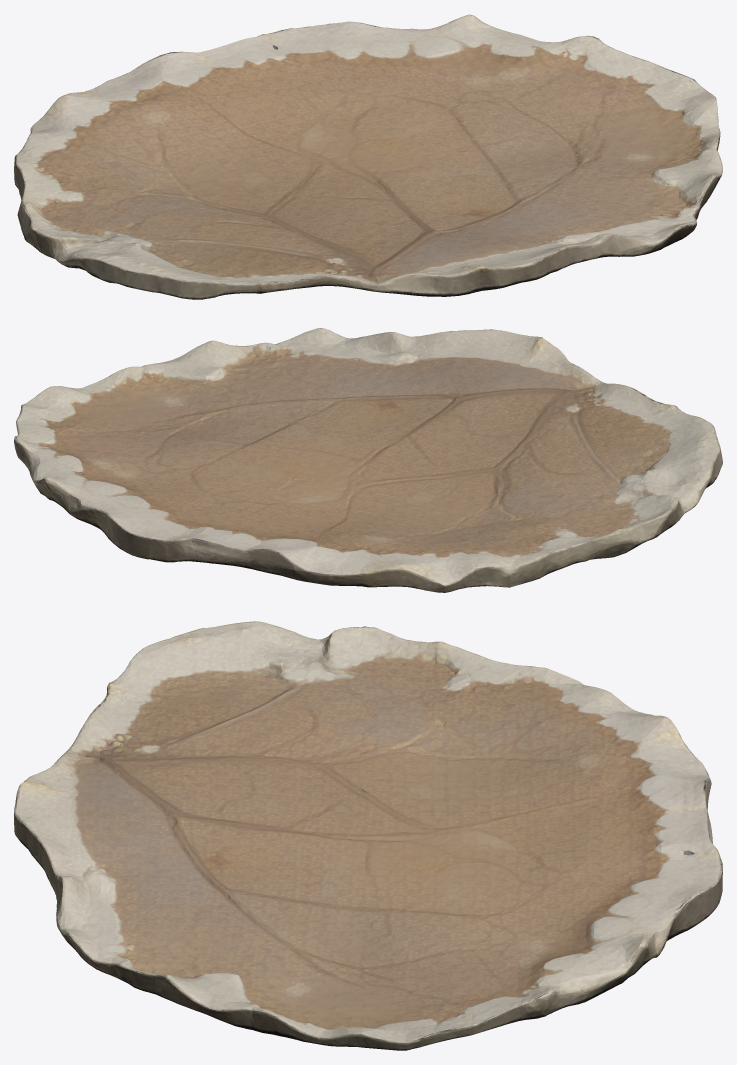
The picture shows the model from 3 angles, top to bottom: view 1: azimuth 30°, elevation 25°; view 2: azimuth 150°, elevation 25°; view 3: azimuth 270°, elevation 25°; orthographic projection. The views are drawn at different scales.
Parts seen in each view (by area): view 1: world; view 2: world; view 3: world.
Boxes of the visible parts, x1,y1,x2,y2 form: world: (14,14,722,299); world: (14,328,722,592); world: (14,621,722,1050).
Bounding box in the file's own units: 0.9997 × 0.0891 × 0.7972.
Materials: 1 (1 with a texture image).
